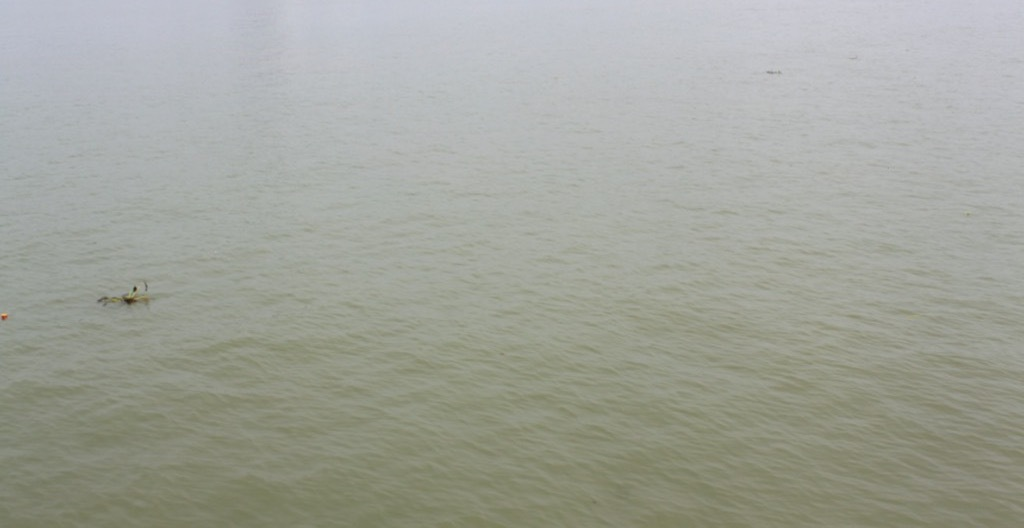organic: (85, 269, 186, 317), (761, 62, 787, 82), (962, 206, 978, 222), (494, 345, 512, 359), (587, 495, 602, 509)
plastic: (1, 306, 15, 327)
